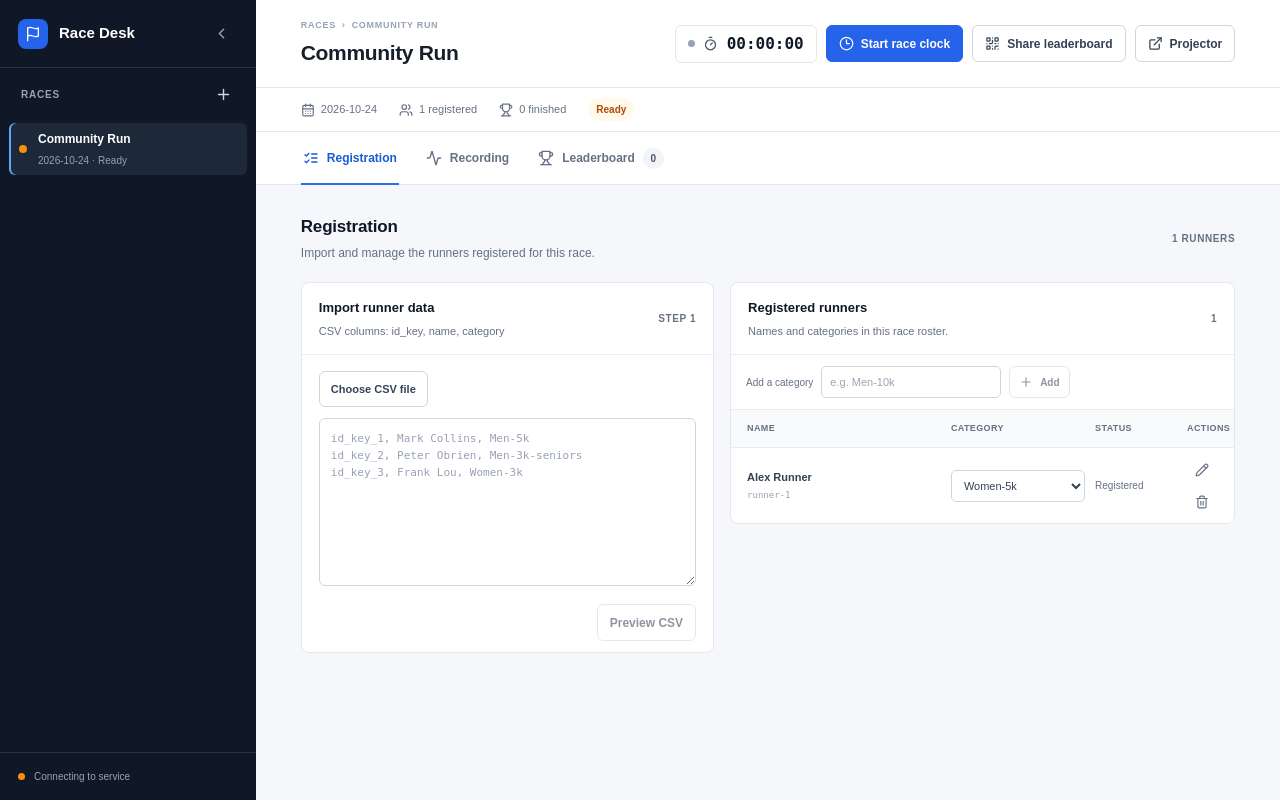
Test case: race routes and workflows › previews and applies a registration roster import
This screenshot has width=1280, height=800.
Step 1. Type "runner-2, New Runner, Men-3k" into the text box with placeholder "id_key_1, Mark Collins" → (507, 502), box [319, 418, 696, 586]
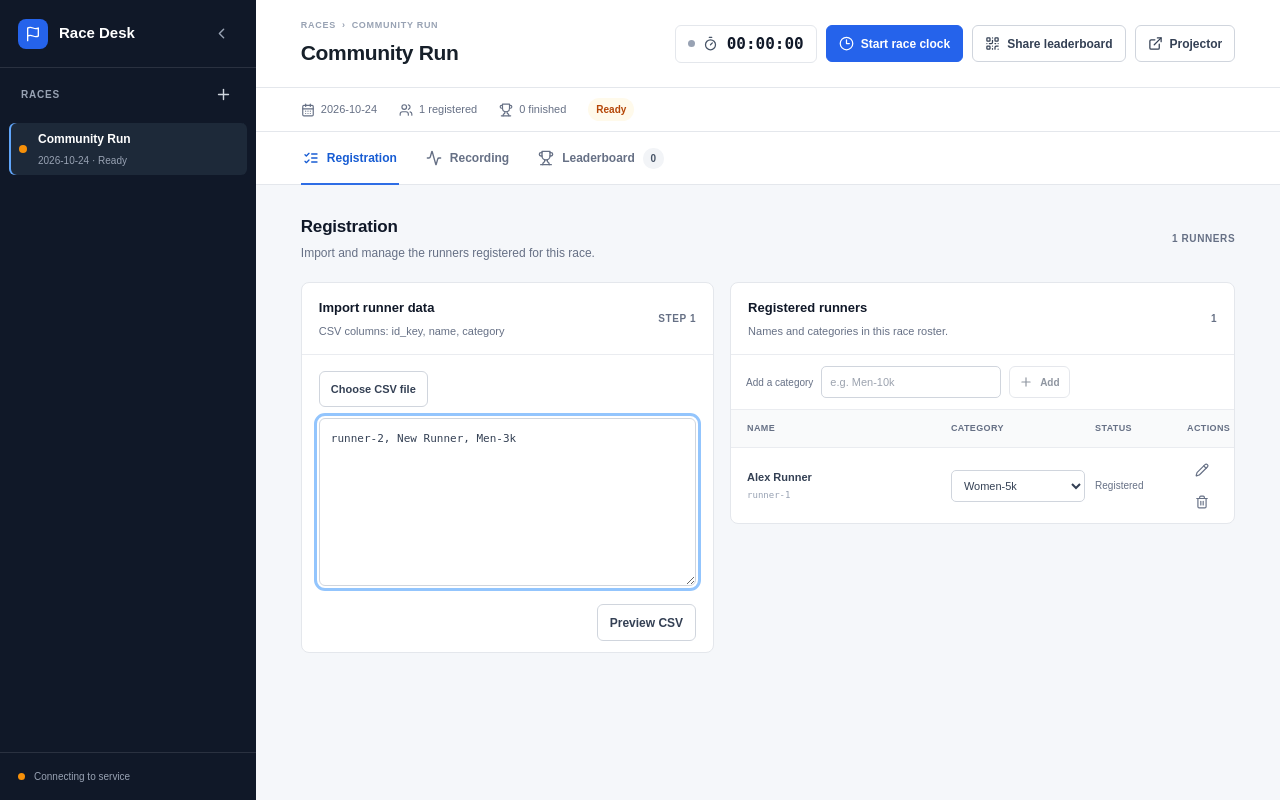
Step 2. Click the button "Preview CSV" → (646, 622), box [597, 604, 696, 641]
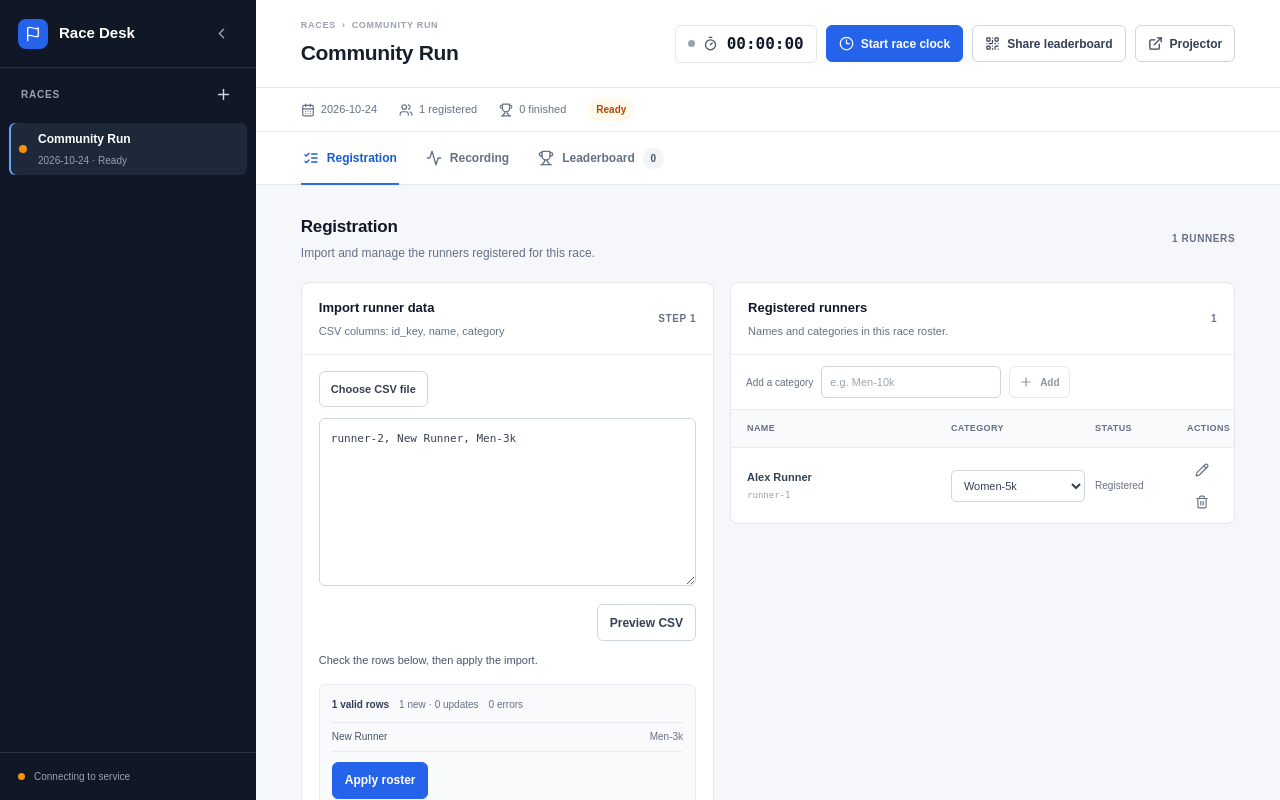
Expected: the text "1 valid rows" is shown, [332, 696, 389, 712]
Step 3. Click the button "Apply roster" → (380, 780), box [332, 762, 428, 798]
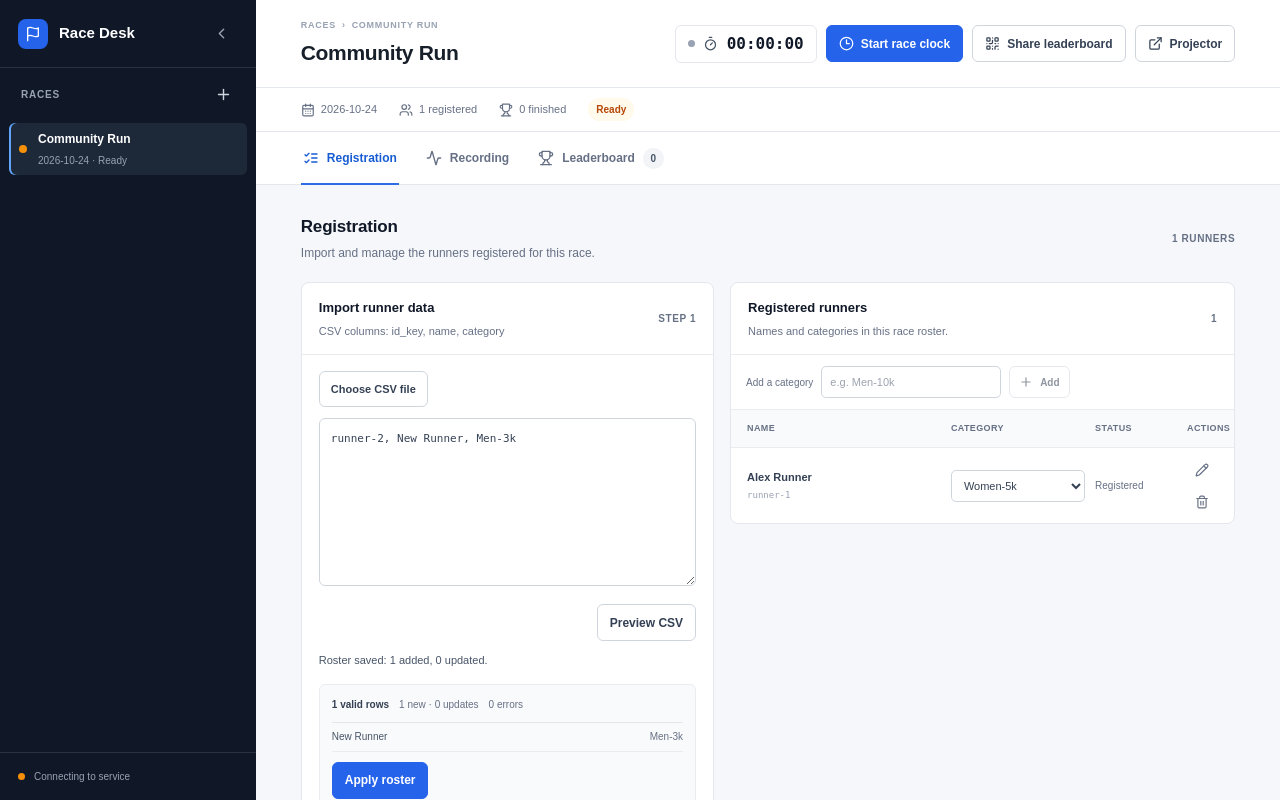
Expected: the text "Roster saved: 1 added, 0 updated." is shown, [319, 654, 488, 666]
